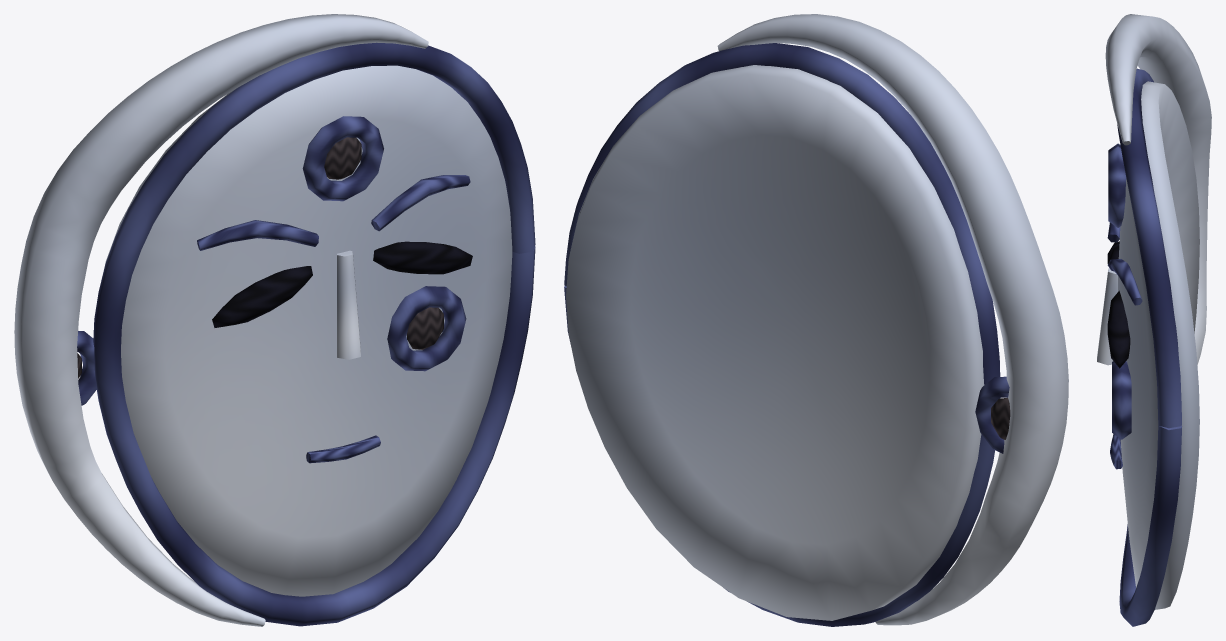
Rendered from twin_mask_nyx_1.obj.
3 views of the same model, side by side, from view 1: azimuth 30°, elevation 25°; view 2: azimuth 150°, elevation 25°; view 3: azimuth 270°, elevation 25° (orthographic). The views are drawn at different scales.
Visible parts, largest first — view 1: twin_mask_nyx_1; view 2: twin_mask_nyx_1; view 3: twin_mask_nyx_1.
Part boxes in pixels (box(x1,y1,x2,y2)): twin_mask_nyx_1: box(14, 14, 535, 626); twin_mask_nyx_1: box(564, 14, 1068, 626); twin_mask_nyx_1: box(1097, 14, 1211, 626).
Bounding box in the file's own units: 0.644 × 0.7387 × 0.138.
